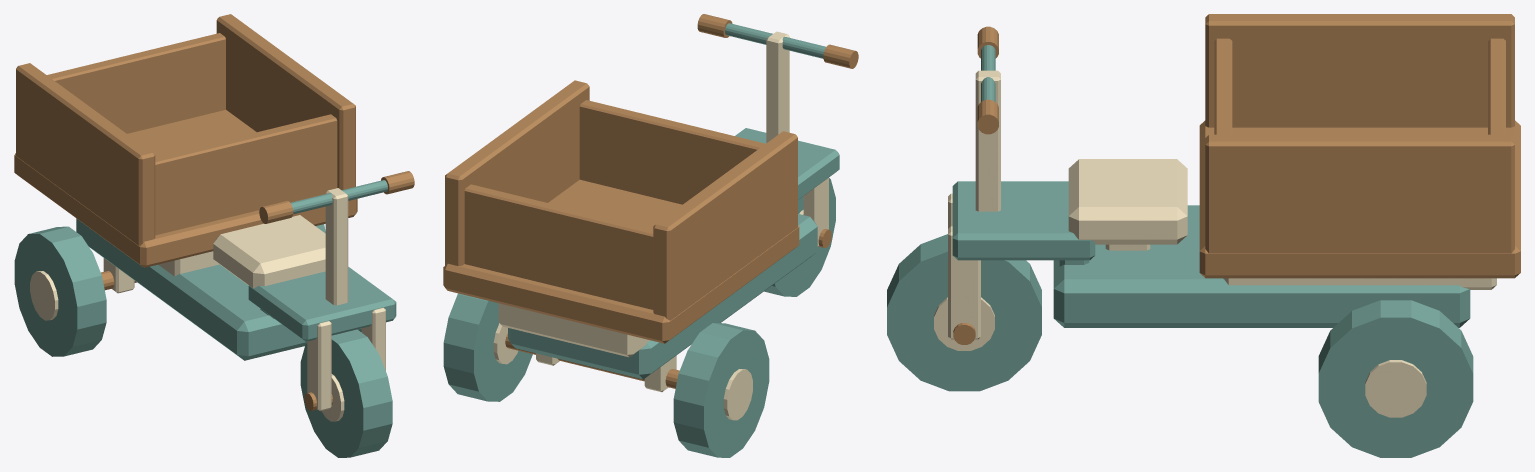
The picture shows the model from 3 angles, left to right: view 1: azimuth 30°, elevation 25°; view 2: azimuth 150°, elevation 25°; view 3: azimuth 270°, elevation 25°; orthographic projection. The views are drawn at different scales.
Visible parts, largest first — view 1: transport-cargo-trike-01; view 2: transport-cargo-trike-01; view 3: transport-cargo-trike-01.
Part boxes in pixels (<box>): transport-cargo-trike-01: <box>14,14,414,457</box>; transport-cargo-trike-01: <box>443,14,858,457</box>; transport-cargo-trike-01: <box>887,14,1520,457</box>.
Size of the model in its own units: 1.23 by 1.16 by 2.13.
